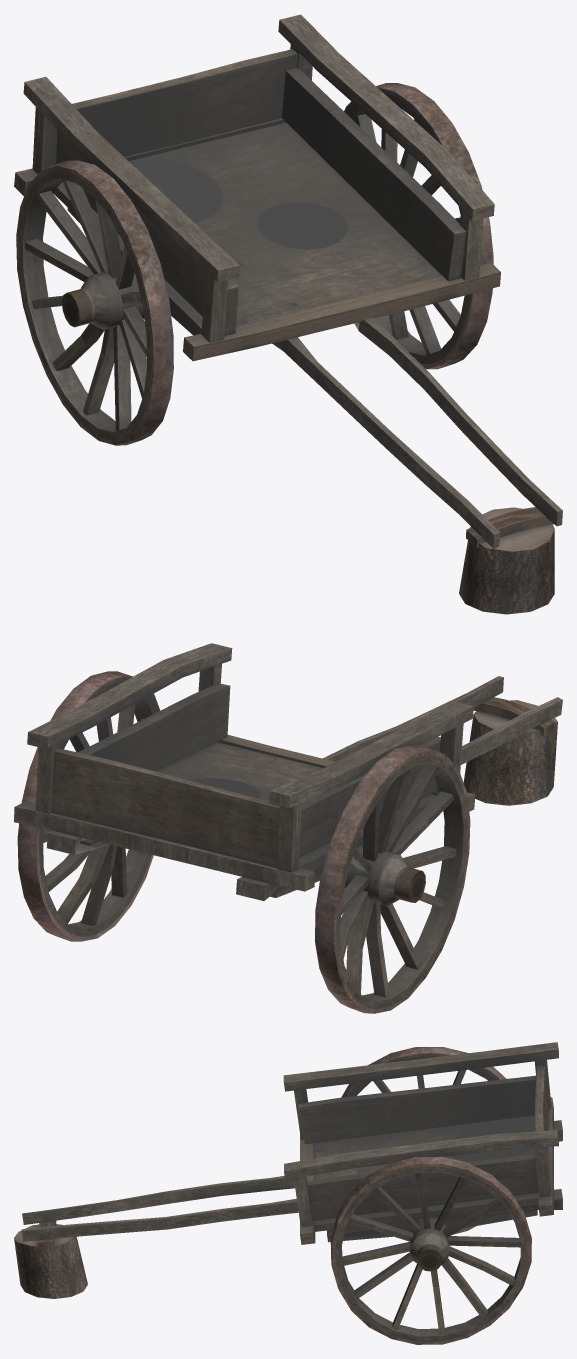
Rendered from at arabası _2.fbx.
3 renders of one model, top to bottom at view 1: azimuth 30°, elevation 25°; view 2: azimuth 150°, elevation 25°; view 3: azimuth 270°, elevation 25°, orthographic. The views are drawn at different scales.
Visible parts, largest first — view 1: SM_wooden_cart, SM_wooden_cart.002, SM_wooden_cart.001; view 2: SM_wooden_cart, SM_wooden_cart.001, SM_wooden_cart.002; view 3: SM_wooden_cart, SM_wooden_cart.002, SM_wooden_cart.001.
Boxes of the visible parts, box(x1,y1,x2,y2) form: SM_wooden_cart: box(14, 14, 500, 445); SM_wooden_cart.002: box(283, 317, 562, 548); SM_wooden_cart.001: box(459, 507, 554, 614); SM_wooden_cart: box(14, 643, 475, 1013); SM_wooden_cart.001: box(463, 700, 557, 805); SM_wooden_cart.002: box(322, 676, 562, 764); SM_wooden_cart: box(283, 1042, 562, 1344); SM_wooden_cart.002: box(21, 1176, 298, 1248); SM_wooden_cart.001: box(14, 1224, 87, 1298).
Size of the model in its own units: 161 by 118 by 294.
1 material, 1 textured.
